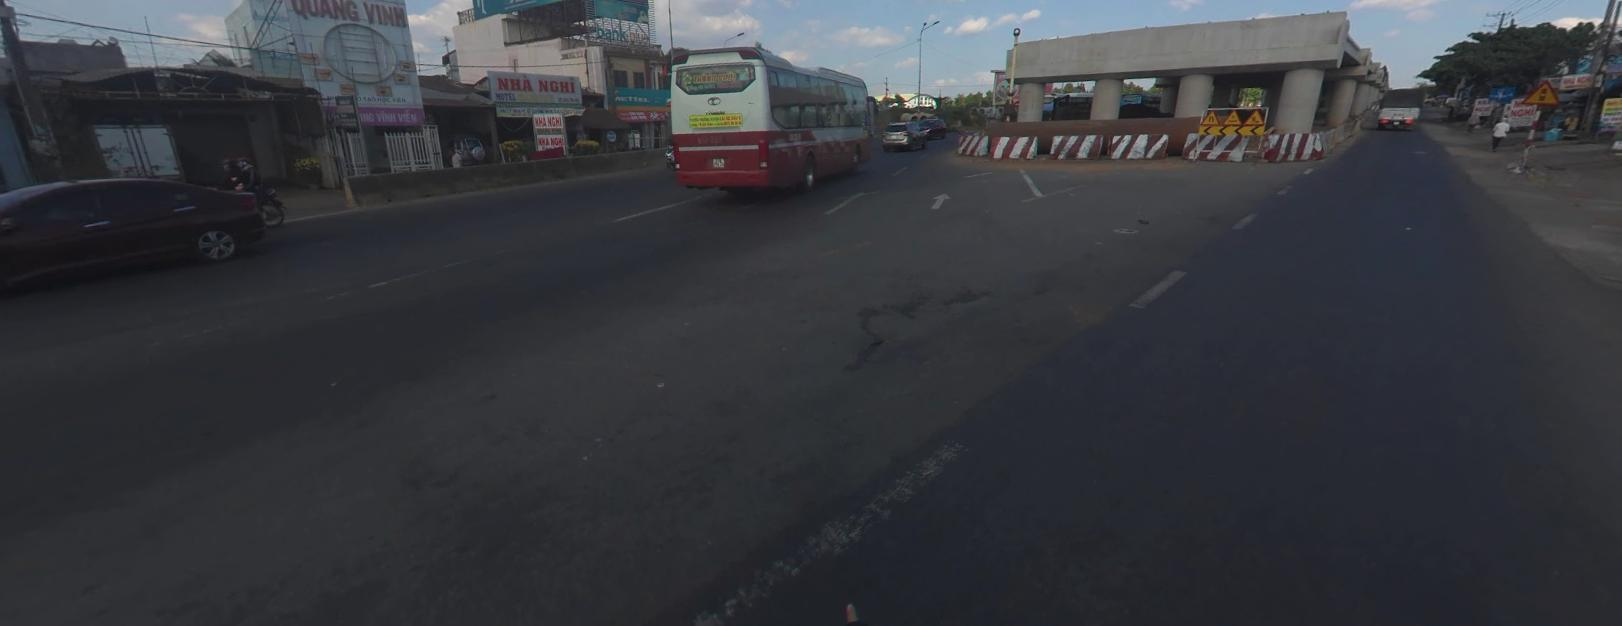Cam nguoc chieu: (1014, 99, 1020, 106)
Nguy hiem: (1521, 79, 1558, 105), (1244, 108, 1263, 124), (1222, 109, 1241, 124), (1201, 109, 1218, 123)
